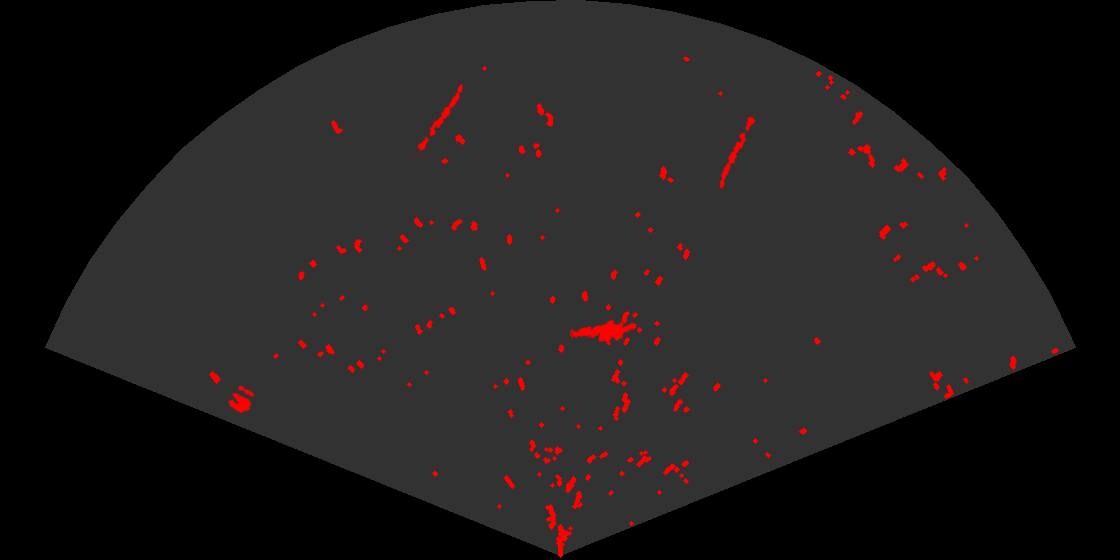ball: (227, 384, 256, 415)
chain: (411, 82, 465, 160), (718, 108, 759, 190)
frogman: (570, 318, 633, 347)
